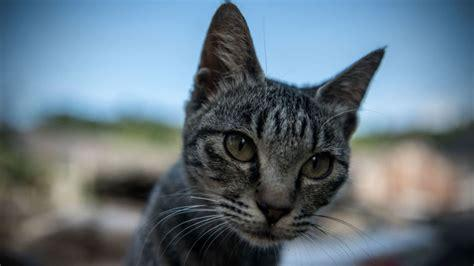cat: (129, 1, 385, 266)
